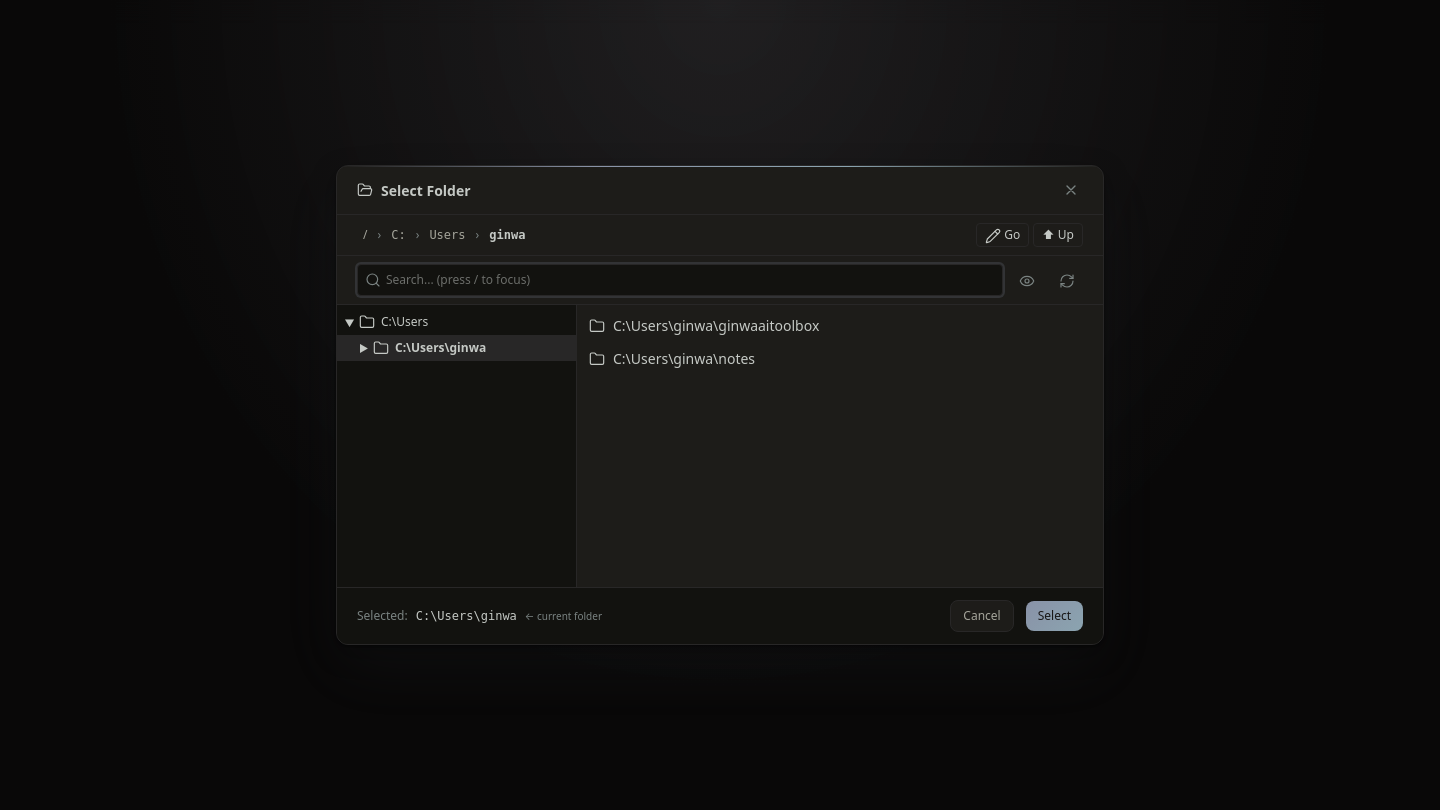
Test: FilePickerDialog — Windows paths (drive letters) › address bar accepts a Windows absolute as-is (never prepends /)
Click the button with test id "file-picker-path-edit": {"x": 1003, "y": 235} [976,223,1029,247]
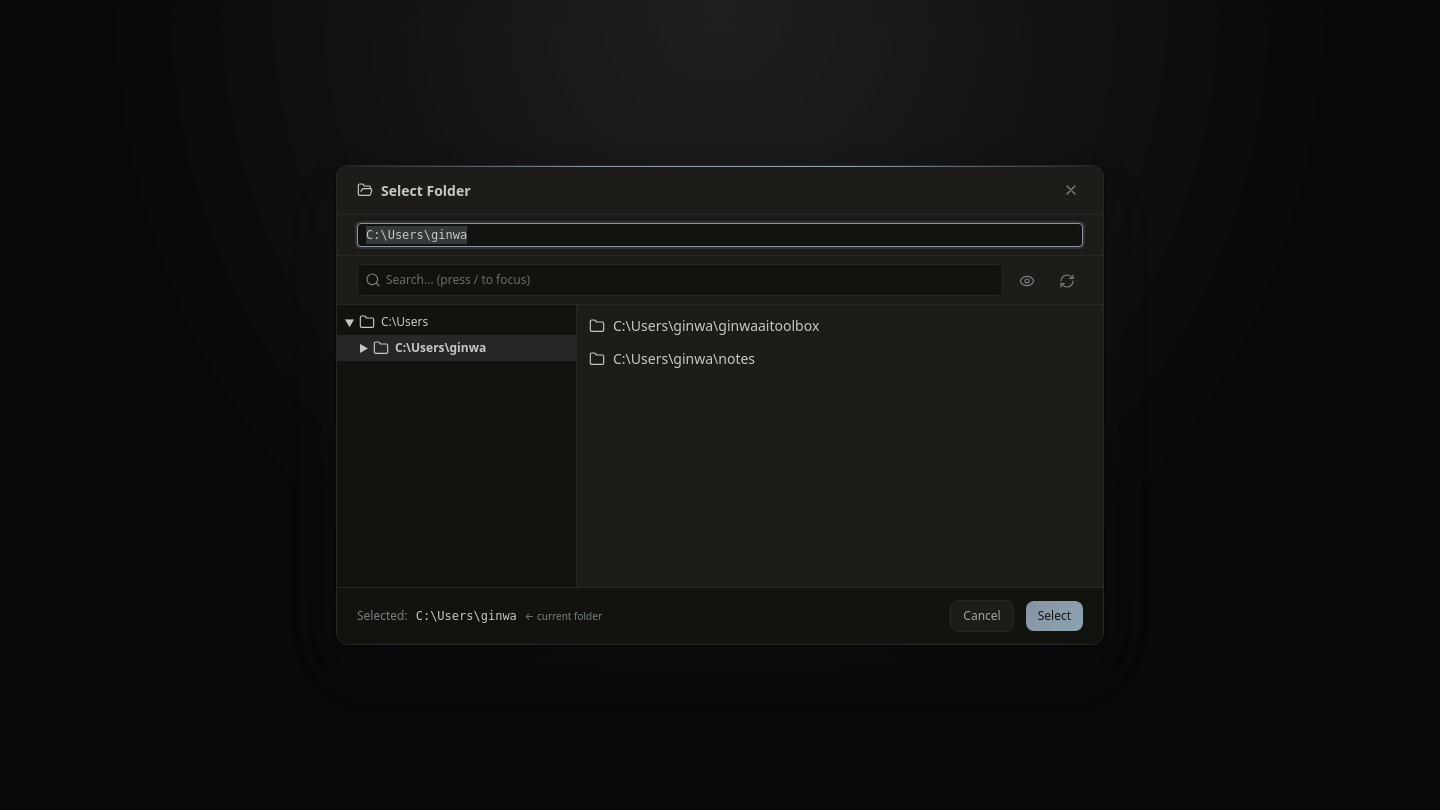
Replace the text in the field with test id "file-picker-path-input" with "C:\\Users\\ginwa\\notes": {"x": 720, "y": 235} [357,223,1083,247]
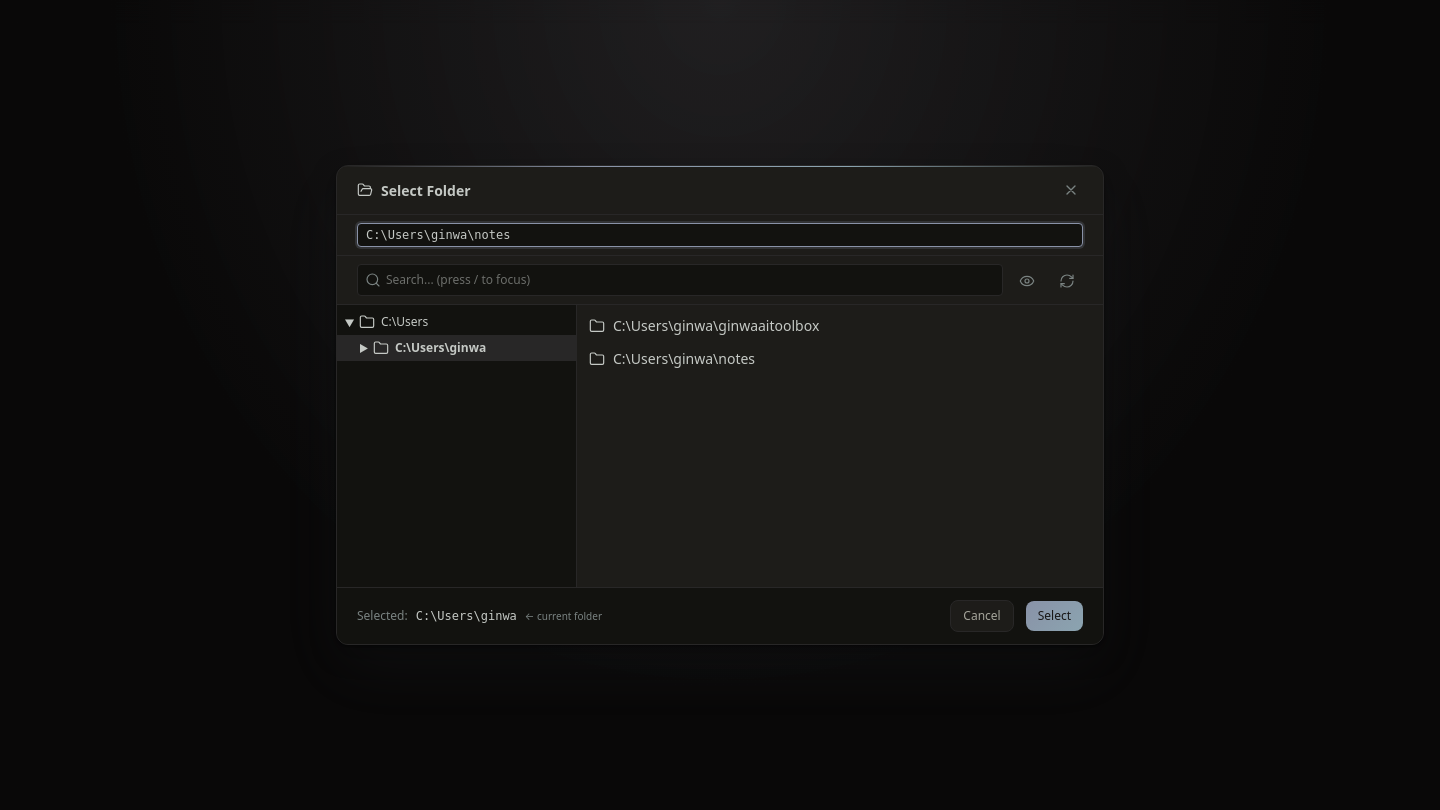
Press Enter in the field with test id "file-picker-path-input", box [357,223,1083,247]
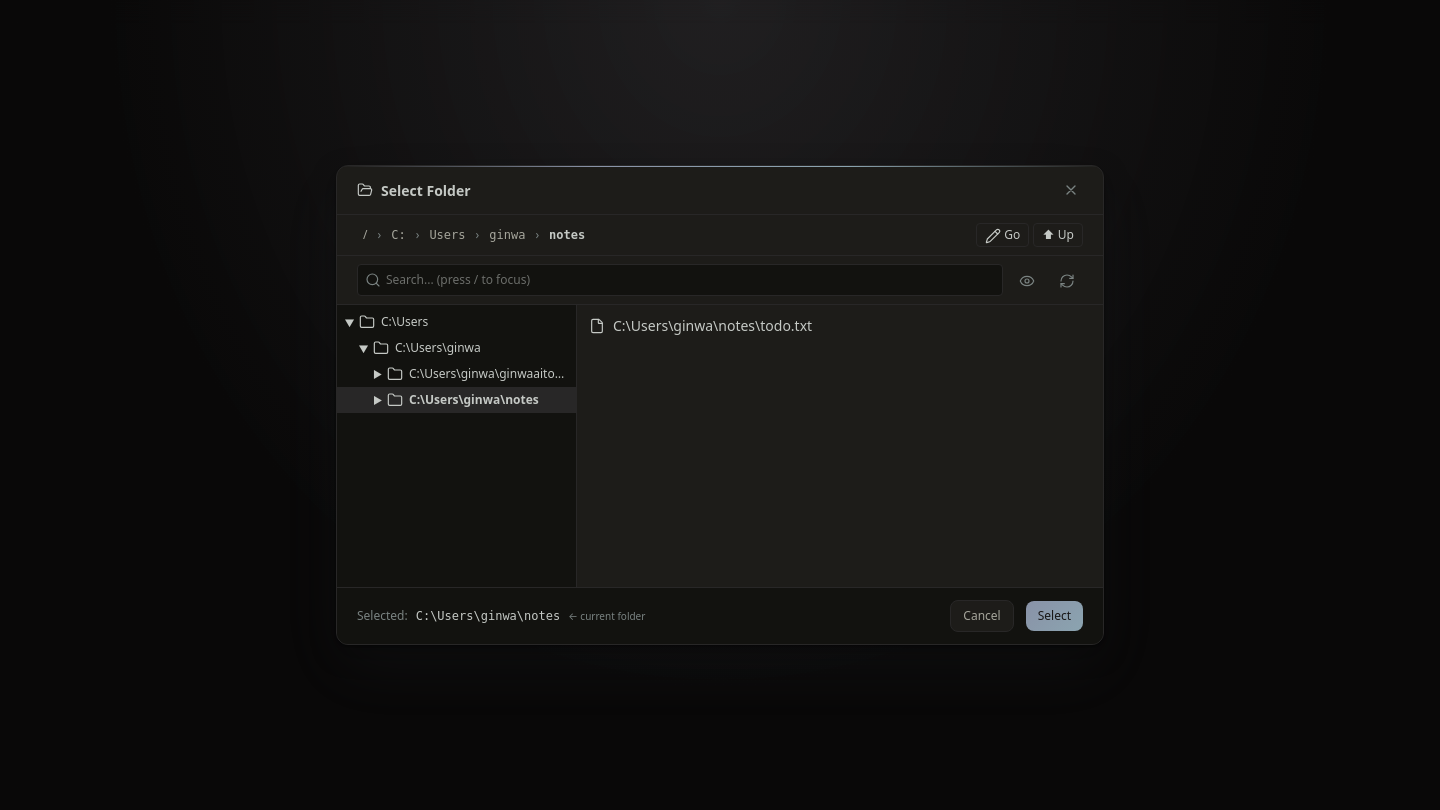
Check: the 1st text "C:\\Users\\ginwa\\notes" reads "C:\\Users\\ginwa\\notes", box [409,391,539,408]
Check: the button with test id "file-picker-crumb-3" reads "notes", box [543,224,591,246]
